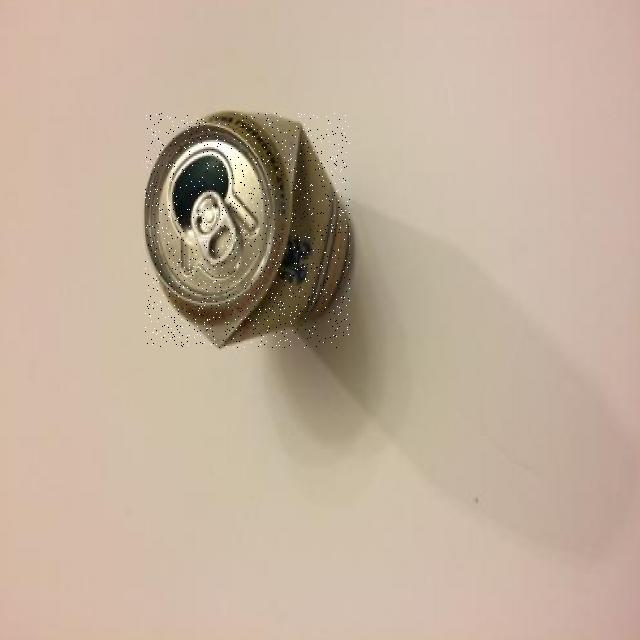metal: (146, 113, 350, 348)
